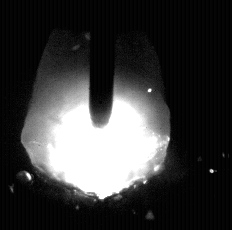arame: (89, 0, 114, 128)
poca: (20, 0, 171, 230)
